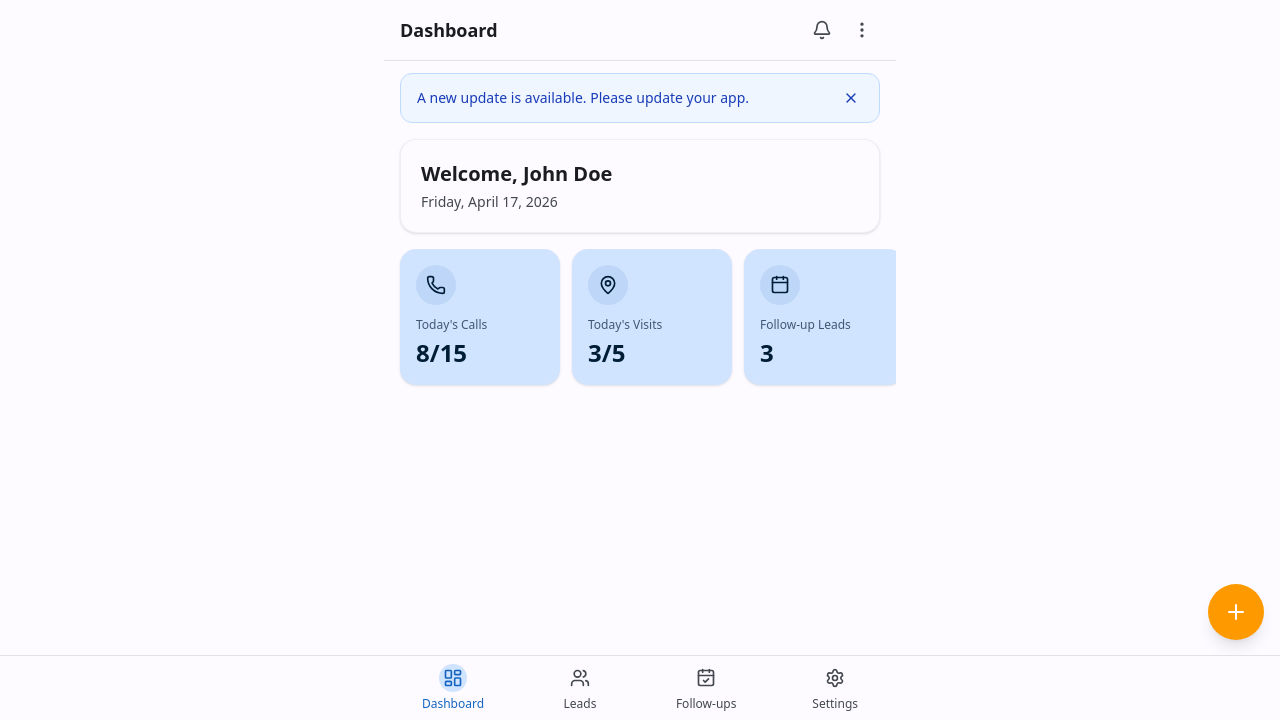
Test case: DashboardPage › dismisses update banner when X button is clicked
Step 1. Click the button named "Dismiss update" → {"x": 851, "y": 98}, box [839,86,863,110]
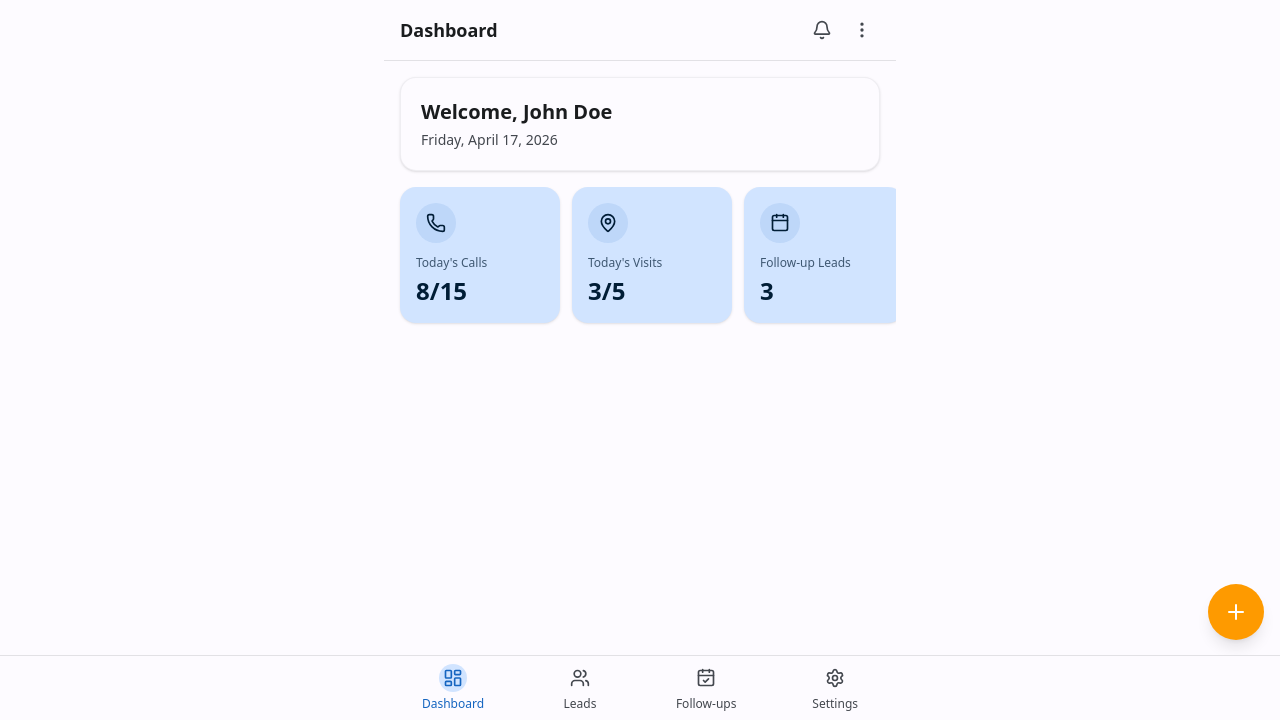
Now the text "A new update is available" is gone
